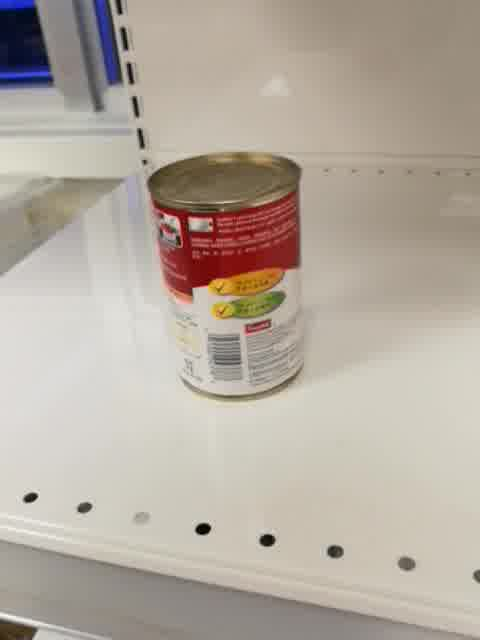tomatosoup: (146, 149, 306, 405)
